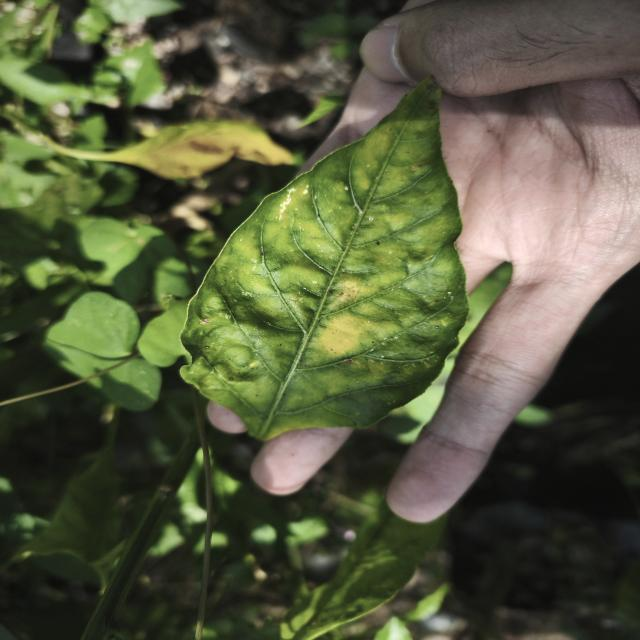Virus Kuning: (178, 76, 470, 442)
